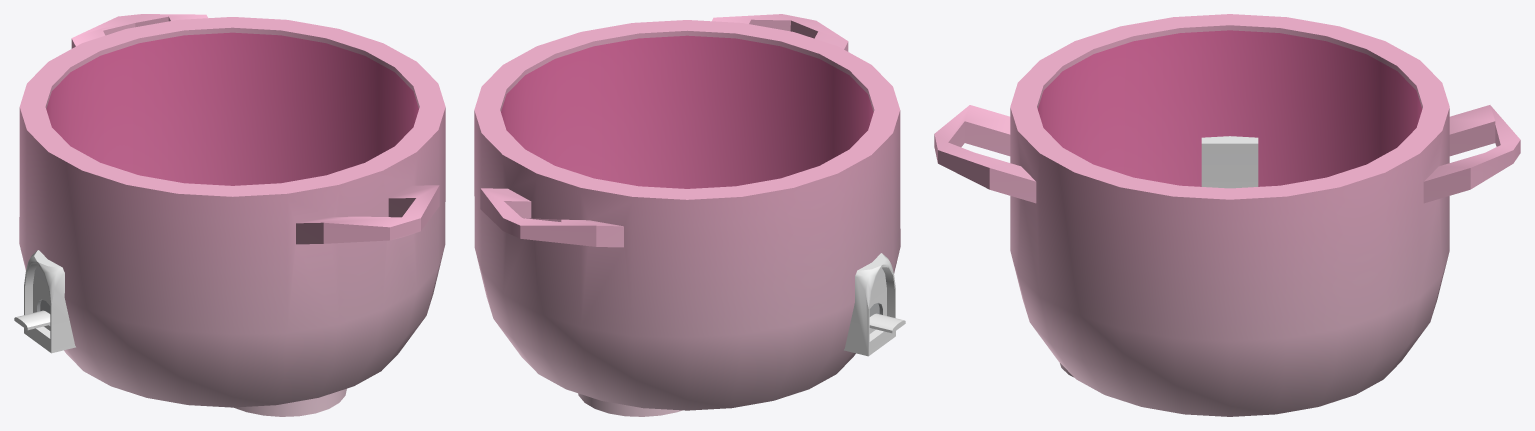
Rendered from Rice Cooker.fbx.
3 views of the same model, side by side, from view 1: azimuth 30°, elevation 25°; view 2: azimuth 150°, elevation 25°; view 3: azimuth 270°, elevation 25° (orthographic). The views are drawn at different scales.
Visible parts, largest first — view 1: Rice Cooker; view 2: Rice Cooker; view 3: Rice Cooker.
Part boxes in pixels (x1,y1,x2,y2): Rice Cooker: (14, 14, 445, 416); Rice Cooker: (474, 14, 905, 416); Rice Cooker: (934, 14, 1520, 416).
Size of the model in its own units: 215 by 127 by 267.
